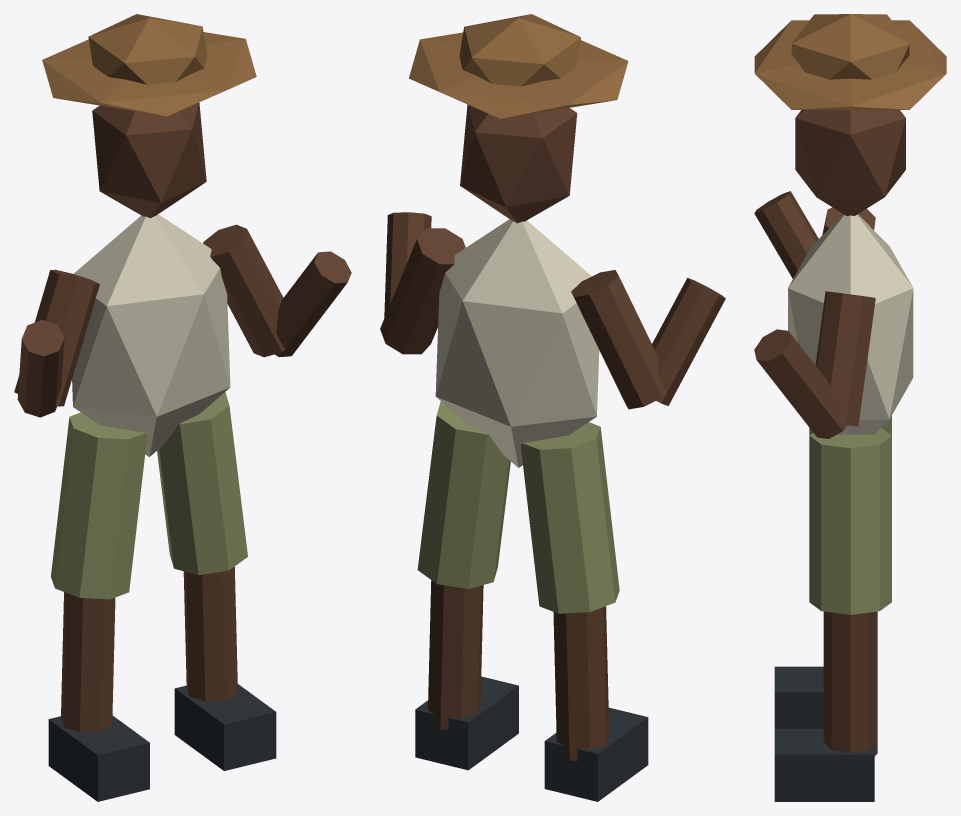
The model's file is pedestrian.glb.
The picture shows the model from 3 angles, left to right: view 1: azimuth 30°, elevation 25°; view 2: azimuth 150°, elevation 25°; view 3: azimuth 270°, elevation 25°; orthographic projection. The views are drawn at different scales.
Parts seen in each view (by area): view 1: PedestrianBody, PedLeg_L, PedLeg_R, PedArm_R, PedArm_L; view 2: PedestrianBody, PedLeg_L, PedLeg_R, PedArm_L, PedArm_R; view 3: PedestrianBody, PedLeg_R, PedArm_R, PedArm_L, PedLeg_L.
Boxes of the visible parts, <box> form: PedestrianBody: <box>42,14,256,456</box>; PedLeg_L: <box>48,412,149,801</box>; PedLeg_R: <box>157,392,276,770</box>; PedArm_R: <box>203,224,351,357</box>; PedArm_L: <box>14,269,99,417</box>; PedestrianBody: <box>408,14,628,467</box>; PedLeg_L: <box>520,422,648,801</box>; PedLeg_R: <box>415,401,518,770</box>; PedArm_L: <box>571,270,725,409</box>; PedArm_R: <box>380,212,465,354</box>; PedestrianBody: <box>754,14,946,434</box>; PedLeg_R: <box>774,428,891,801</box>; PedArm_R: <box>754,291,875,438</box>; PedArm_L: <box>754,191,875,278</box>; PedLeg_L: <box>774,416,891,728</box>.
Size of the model in its own units: 0.8694 by 1.89 by 0.4431.
